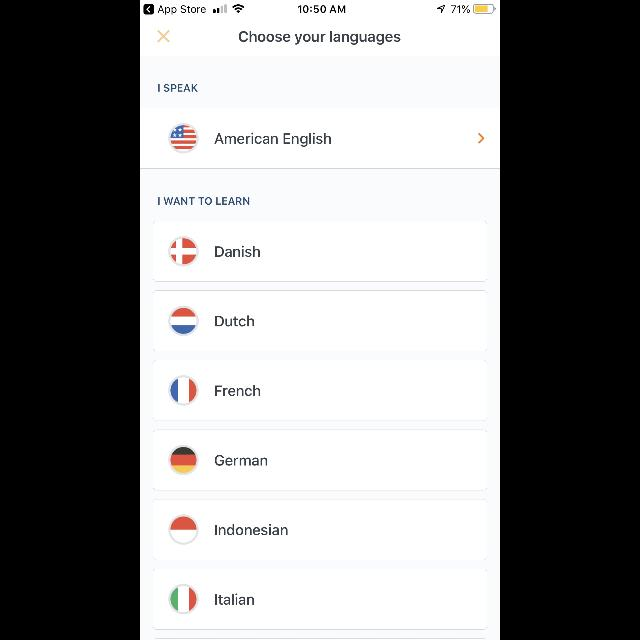icon: (158, 31, 170, 43), (478, 133, 484, 143)
image: (168, 237, 200, 267), (168, 306, 200, 336), (168, 376, 200, 406), (169, 444, 199, 476), (169, 123, 199, 153), (169, 515, 199, 545), (169, 584, 199, 614)
text: (239, 31, 401, 45), (215, 133, 332, 147), (216, 524, 288, 536), (158, 197, 250, 205), (215, 454, 267, 466), (216, 245, 260, 257), (216, 386, 260, 396), (216, 316, 254, 326), (216, 594, 254, 604), (158, 84, 198, 92)
uppertaskbar: (140, 1, 500, 16)
